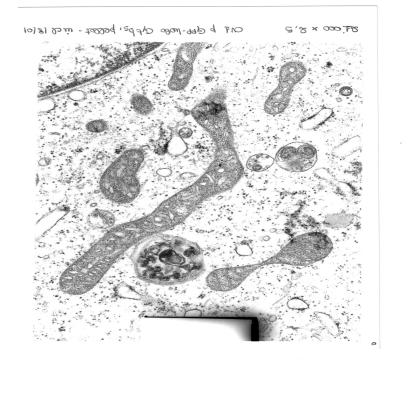mitochondria: (57, 90, 246, 296), (206, 232, 332, 291), (96, 148, 144, 204), (262, 61, 308, 114), (169, 43, 205, 91), (127, 92, 154, 116), (84, 118, 108, 134)
